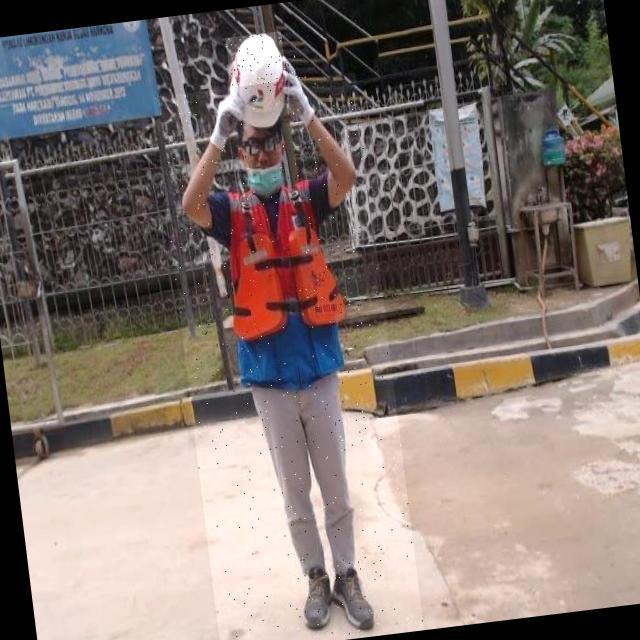Helmet: (225, 31, 292, 129)
Human: (152, 71, 423, 640)
Safety Boot: (329, 562, 378, 633), (297, 560, 338, 631)
Safety Vest: (214, 177, 350, 384)
